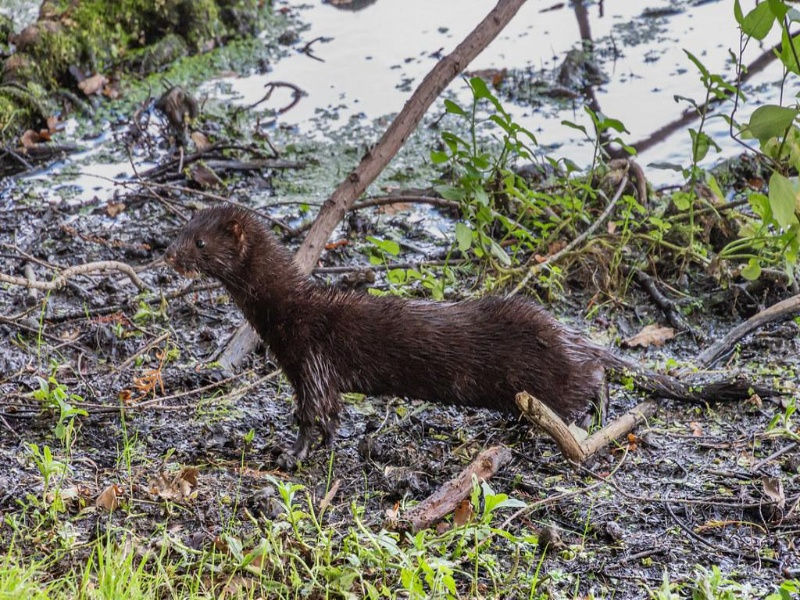minkish: (164, 206, 755, 448)
